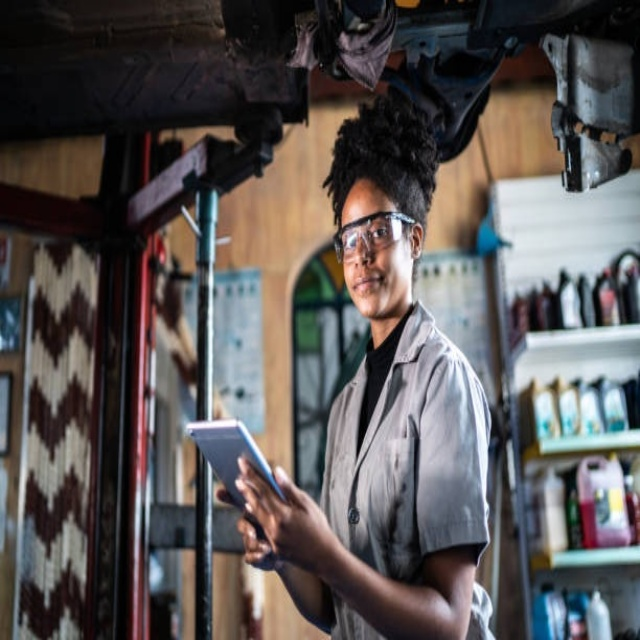Gafas: (334, 210, 419, 263)
Sin_guantes: (225, 459, 307, 570)
Sin_mascara: (346, 268, 385, 306)
